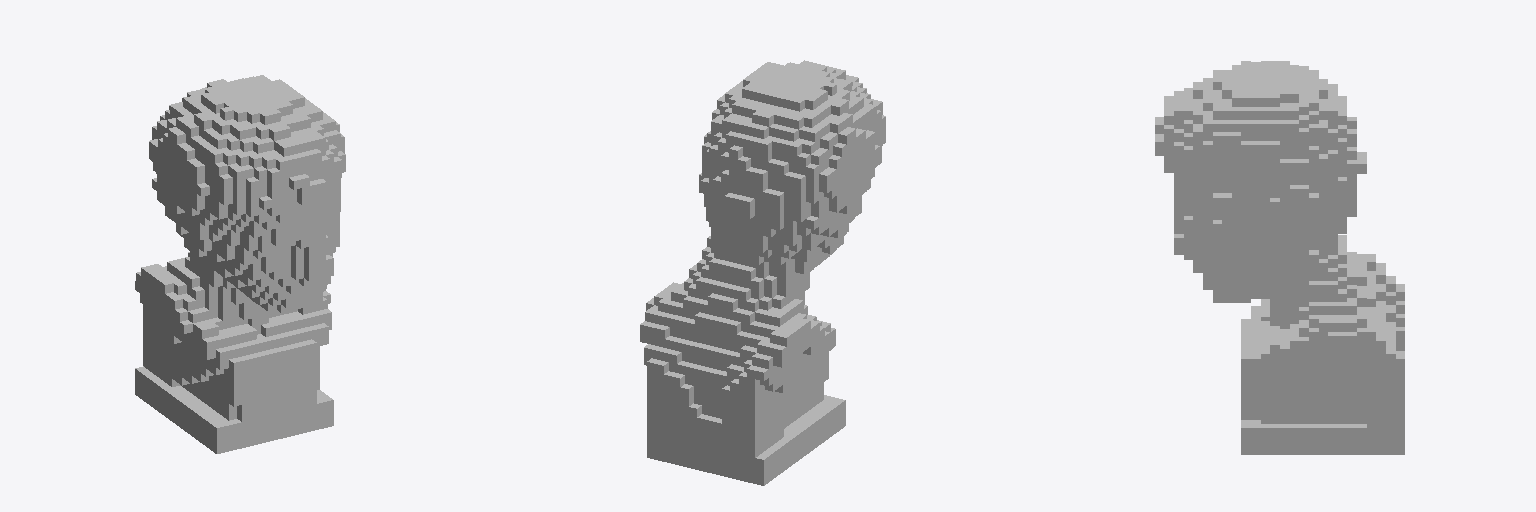
Rendered from statue 2.obj.
3 renders of one model, left to right at view 1: azimuth 30°, elevation 25°; view 2: azimuth 150°, elevation 25°; view 3: azimuth 270°, elevation 25°, orthographic.
Size of the model in its own units: 20 by 39 by 26.